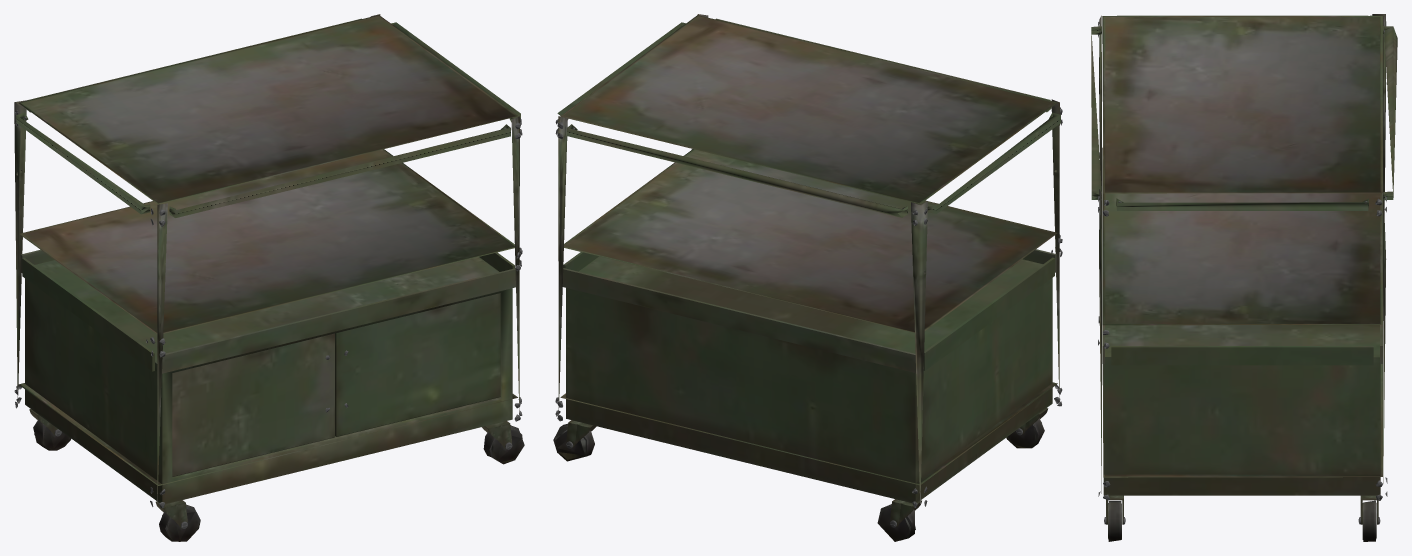
The model's file is industrial_storage_cart.glb.
3 renders of one model, left to right at view 1: azimuth 30°, elevation 25°; view 2: azimuth 150°, elevation 25°; view 3: azimuth 270°, elevation 25°, orthographic.
Visible parts, largest first — view 1: industrial_storage_cart; view 2: industrial_storage_cart; view 3: industrial_storage_cart.
Boxes of the visible parts, x1,y1,x2,y2 form: industrial_storage_cart: [14, 14, 524, 541]; industrial_storage_cart: [553, 14, 1062, 541]; industrial_storage_cart: [1091, 14, 1397, 541].
Bounding box in the file's own units: 1.57 × 1.38 × 1.09.
1 material, 1 textured.
